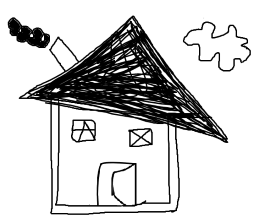closed_window: (67, 114, 102, 147), (125, 126, 158, 150)
clouds: (178, 9, 258, 74)
door: (92, 150, 143, 214)
shaded_roof: (16, 13, 243, 133)
smoking_chimney: (4, 7, 86, 77)
wall: (43, 101, 195, 219)
